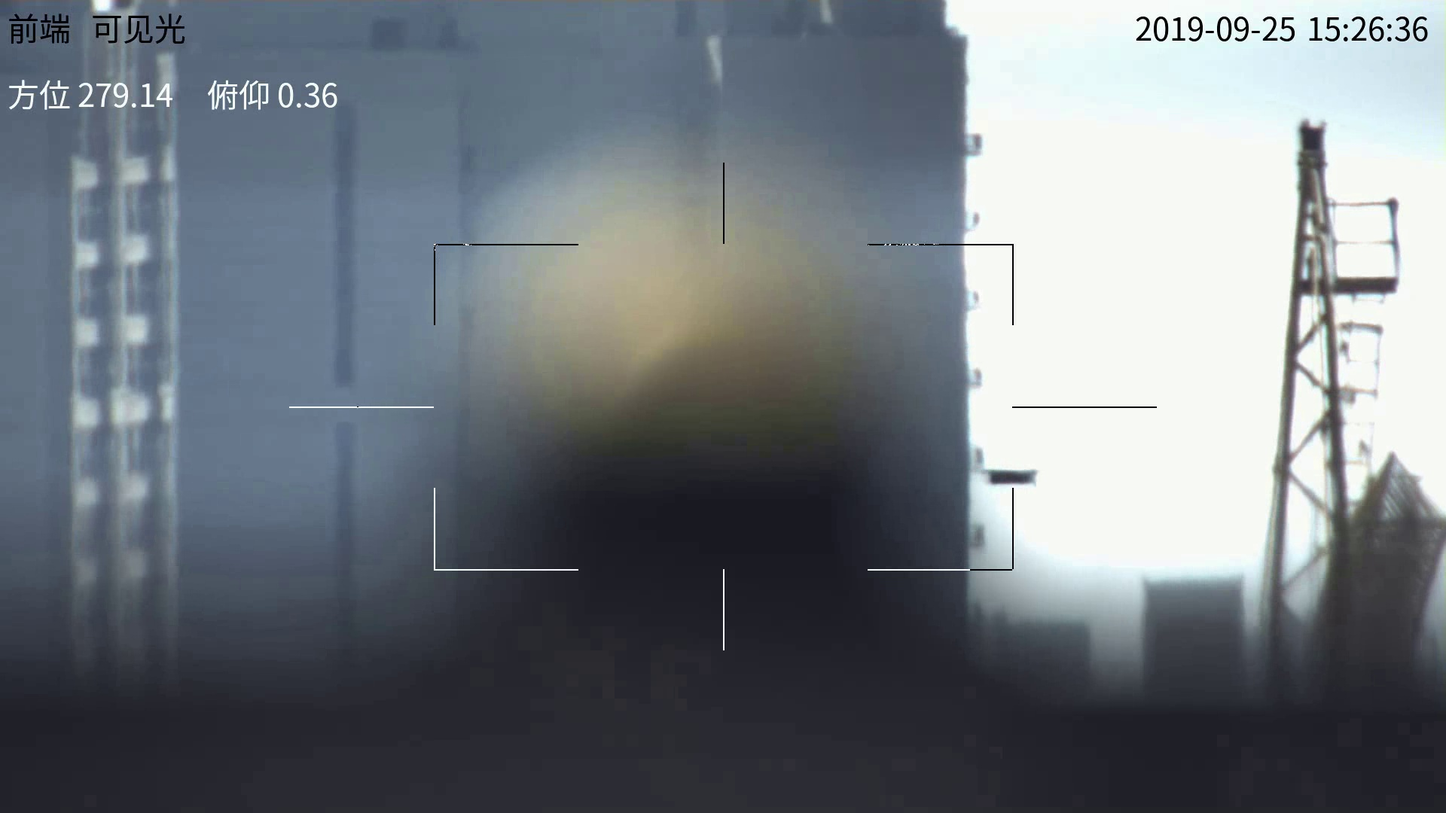drone_other: (985, 464, 1036, 486)
